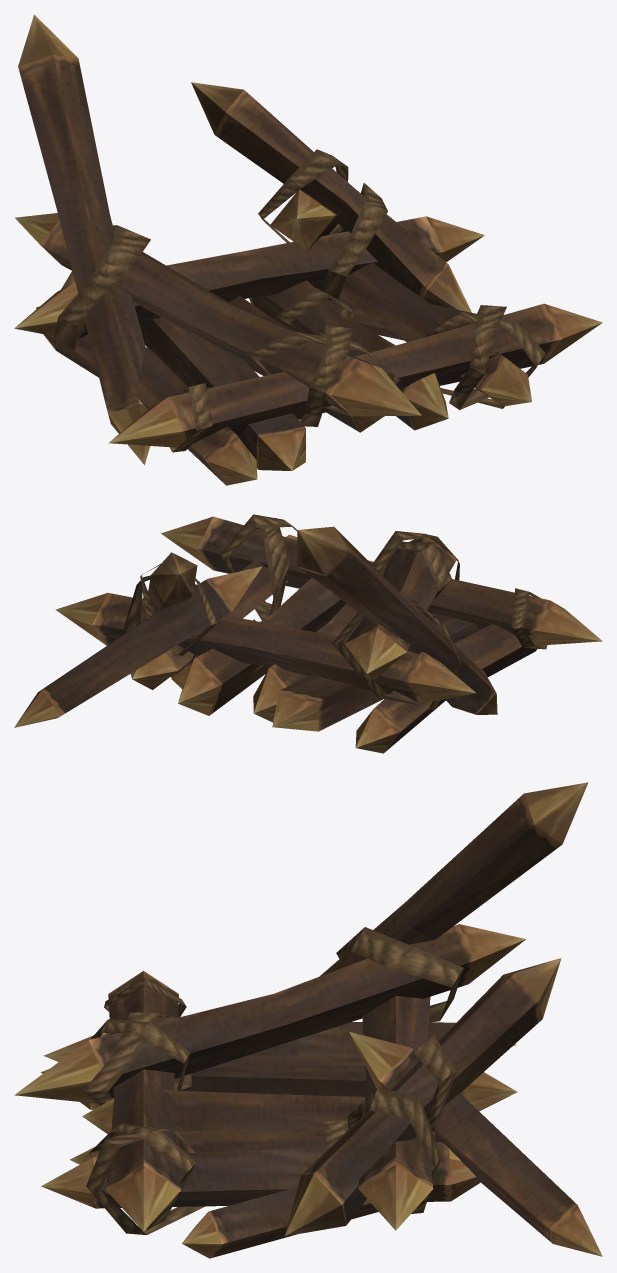
The model's file is lava_scaffolding_01.fbx.
3 renders of one model, top to bottom at view 1: azimuth 30°, elevation 25°; view 2: azimuth 150°, elevation 25°; view 3: azimuth 270°, elevation 25°, orthographic. The views are drawn at different scales.
Parts seen in each view (by area): view 1: obj0.039; view 2: obj0.039; view 3: obj0.039.
Part boxes in pixels (x1,y1,x2,y2): obj0.039: (14, 14, 602, 485); obj0.039: (14, 514, 602, 753); obj0.039: (14, 782, 602, 1258).
Size of the model in its own units: 2.8 by 1.71 by 2.7.
